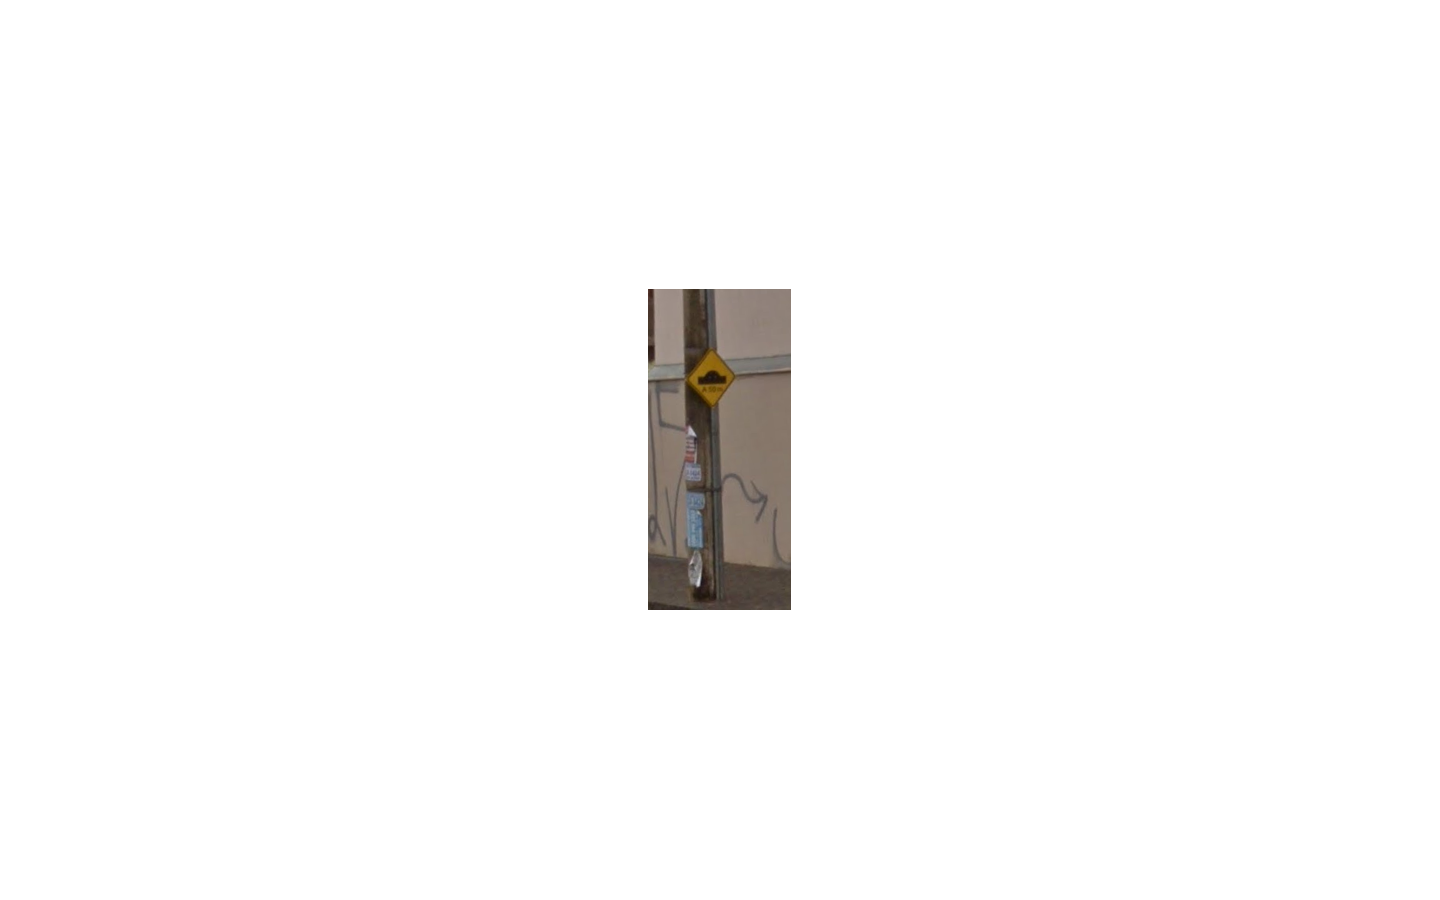l50m: (682, 348, 737, 410)
